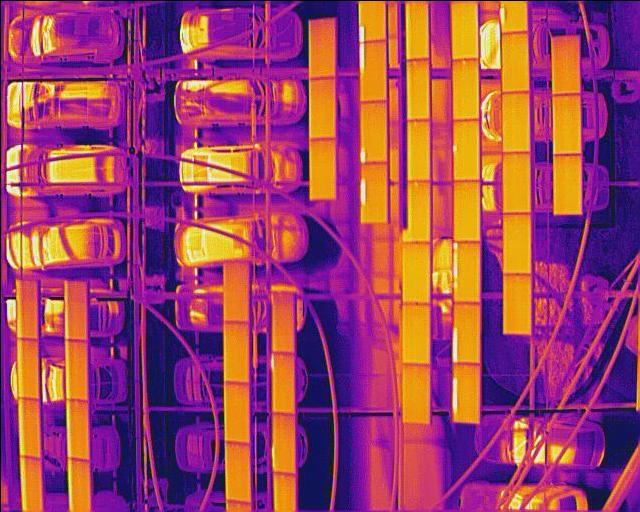Cell: (451, 120, 479, 179)
No-Anomaly: (400, 301, 428, 367), (551, 93, 581, 153), (550, 35, 580, 95), (500, 92, 529, 152), (502, 273, 530, 335), (308, 77, 335, 141), (501, 212, 529, 273), (553, 153, 581, 214), (307, 17, 335, 78), (222, 319, 247, 387), (452, 181, 480, 241), (402, 241, 428, 305), (307, 139, 335, 198), (502, 151, 529, 212), (401, 364, 428, 424), (223, 443, 250, 503), (451, 58, 477, 119), (500, 32, 526, 92), (405, 180, 430, 242), (223, 259, 247, 323), (405, 118, 430, 179), (404, 0, 429, 59), (64, 278, 87, 342), (65, 399, 88, 462), (18, 396, 41, 459), (223, 382, 246, 444), (270, 291, 294, 350), (406, 58, 429, 119), (271, 411, 293, 474), (65, 338, 86, 402), (271, 352, 293, 413), (17, 334, 38, 396), (66, 455, 88, 512), (20, 455, 41, 512), (16, 280, 36, 337)
Unclassified: (359, 101, 388, 163), (450, 362, 478, 422), (359, 41, 387, 101), (452, 303, 479, 365), (359, 163, 387, 222), (452, 241, 478, 301)
